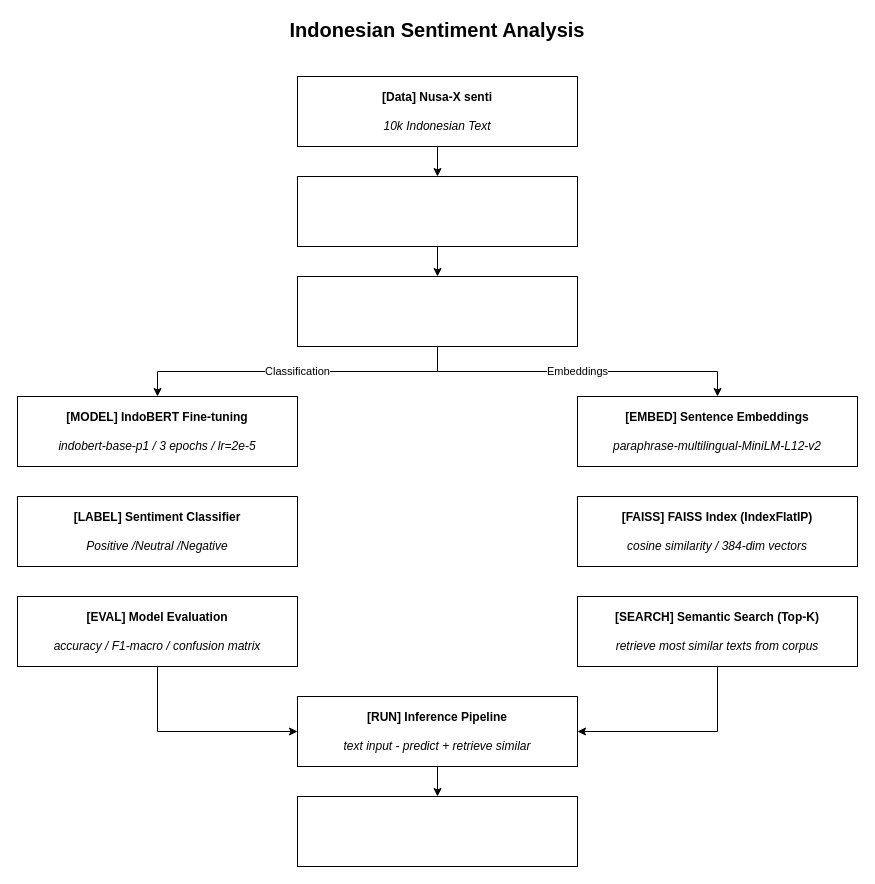
Some shapes in this 875 by 884 pixel diagram are drawn without their labels. The centre of each missing label's shape, as x and y in pixels:
[EDA] EDA & Label Analysis distribution/text length/class balance: point 437,211
[OUT] Final Output label / confidence % / similar examples (FAISS): point 437,831
[Prep] Preprocessing & Tokenization IndoBERT tokenizer / max_length=128/padding: point 437,311
